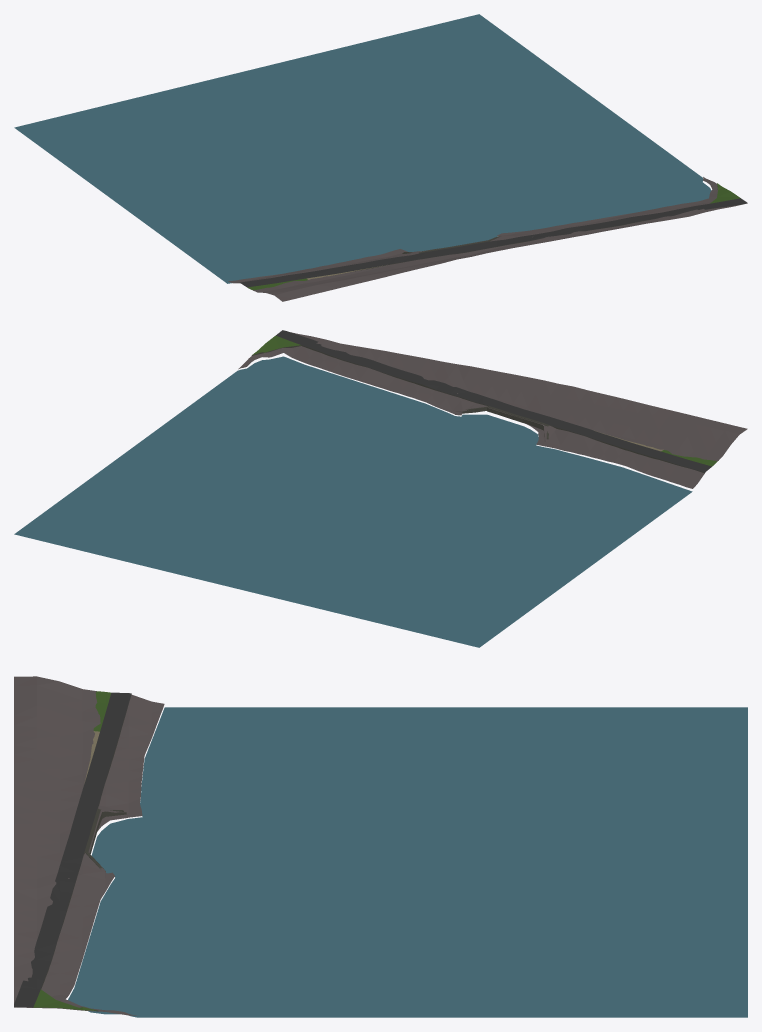
The picture shows the model from 3 angles, top to bottom: view 1: azimuth 30°, elevation 25°; view 2: azimuth 150°, elevation 25°; view 3: azimuth 270°, elevation 25°; orthographic projection. The views are drawn at different scales.
Visible parts, largest first — view 1: c_m21_p01; view 2: c_m21_p01; view 3: c_m21_p01.
Part boxes in pixels (x1,y1,x2,y2): c_m21_p01: (14,14,747,301); c_m21_p01: (14,330,747,647); c_m21_p01: (14,676,747,1017).
Size of the model in its own units: 128 by 6.08 by 128.
